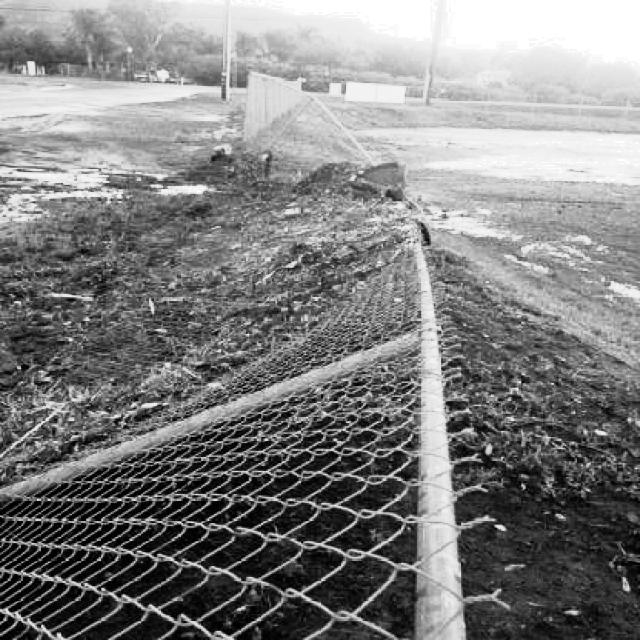anomaly-fence: (8, 11, 499, 640)
